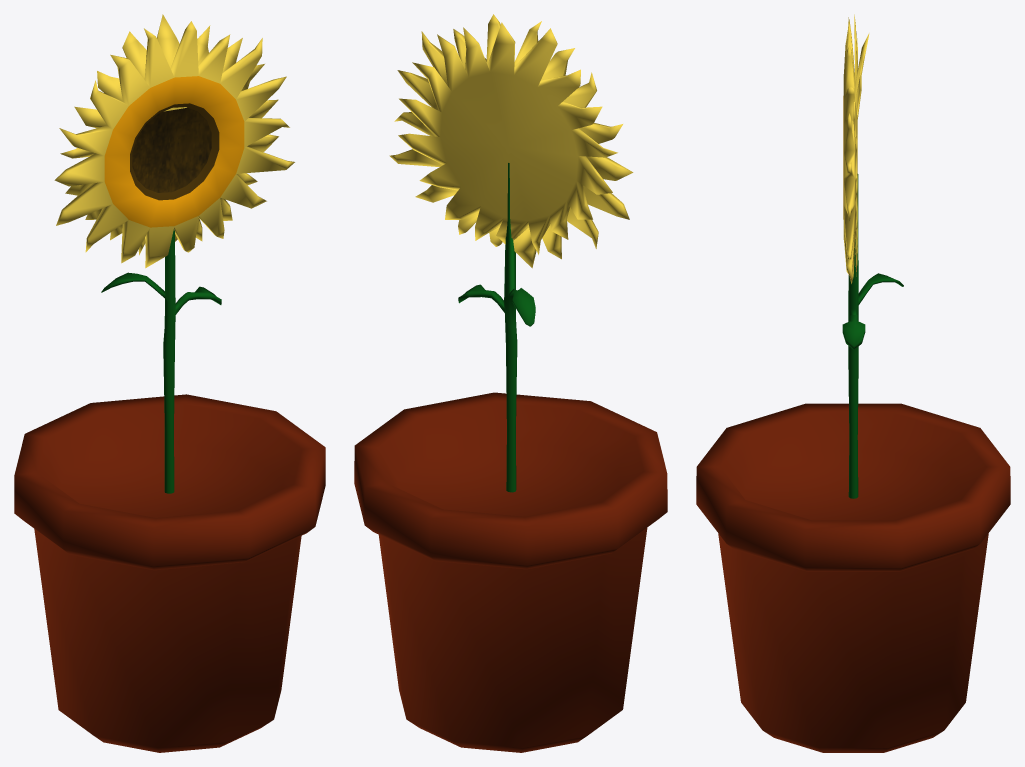
Rendered from VasoGirassol.fbx.
The picture shows the model from 3 angles, left to right: view 1: azimuth 30°, elevation 25°; view 2: azimuth 150°, elevation 25°; view 3: azimuth 270°, elevation 25°; orthographic projection.
Parts seen in each view (by area): view 1: VasoGirassol; view 2: VasoGirassol; view 3: VasoGirassol.
Part boxes in pixels (<box>): VasoGirassol: <box>14,14,325,752</box>; VasoGirassol: <box>354,14,667,752</box>; VasoGirassol: <box>696,14,1010,752</box>.
Size of the model in its own units: 36.45 by 91.89 by 38.33.
Materials: 1 (1 with a texture image).
